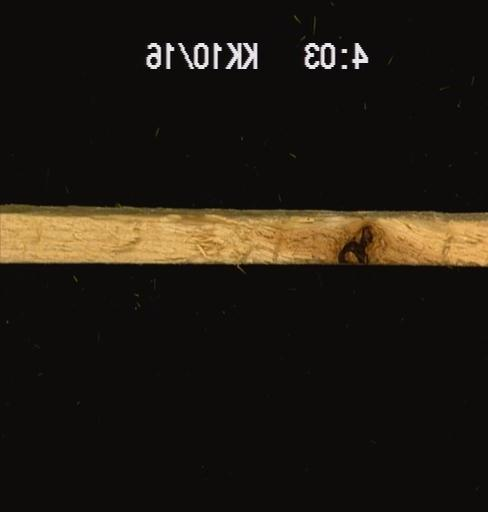wave: (0, 203, 486, 219)
